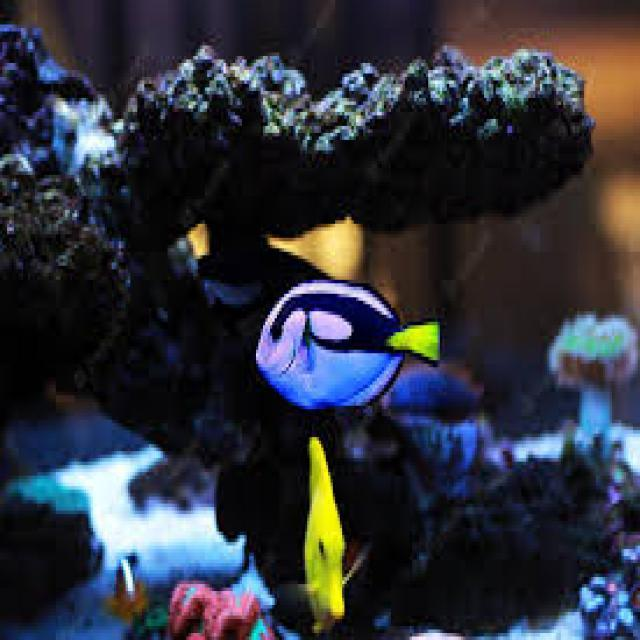YellowTang: (296, 423, 356, 640)
